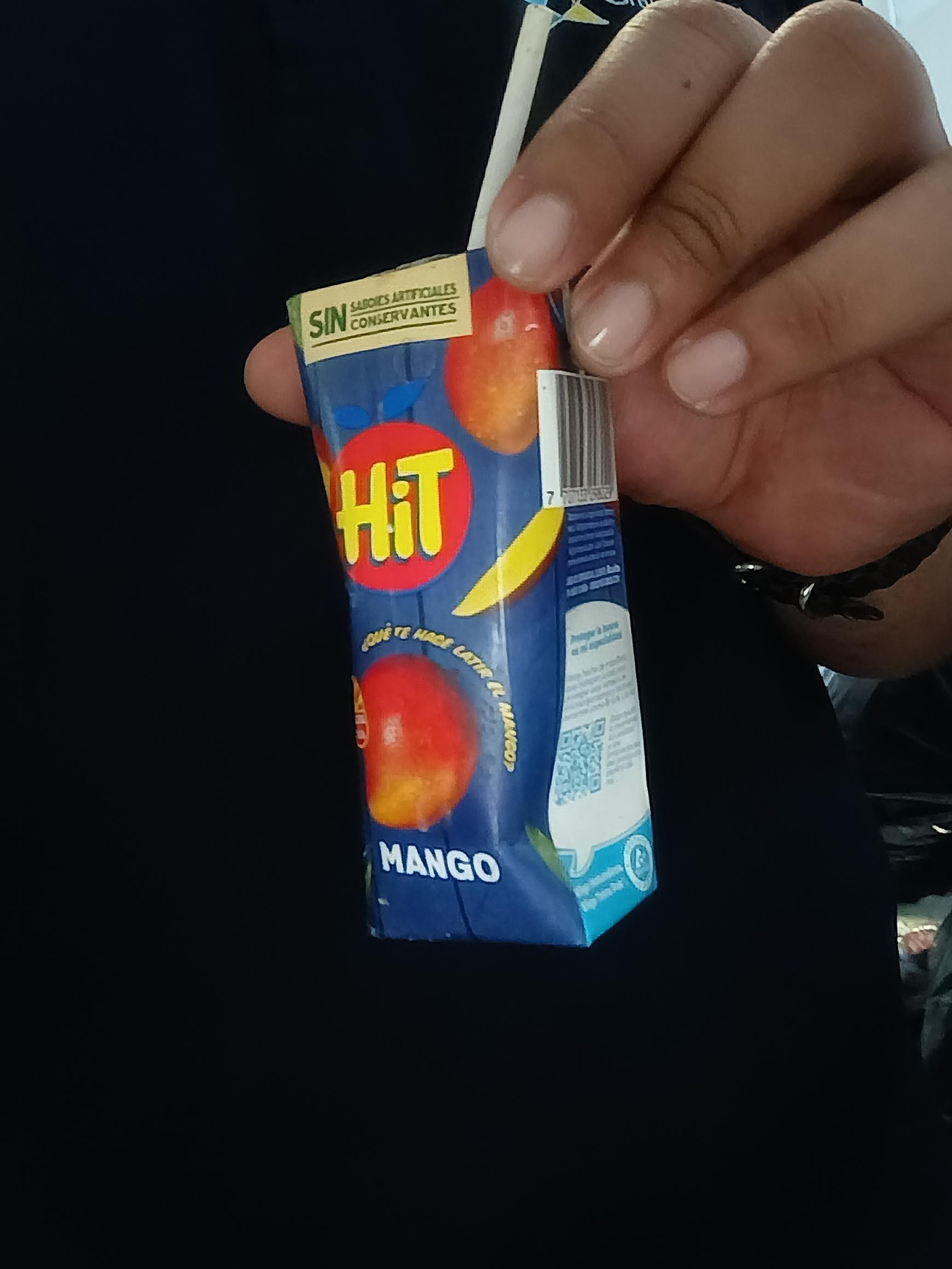Carton: (289, 250, 657, 947)
